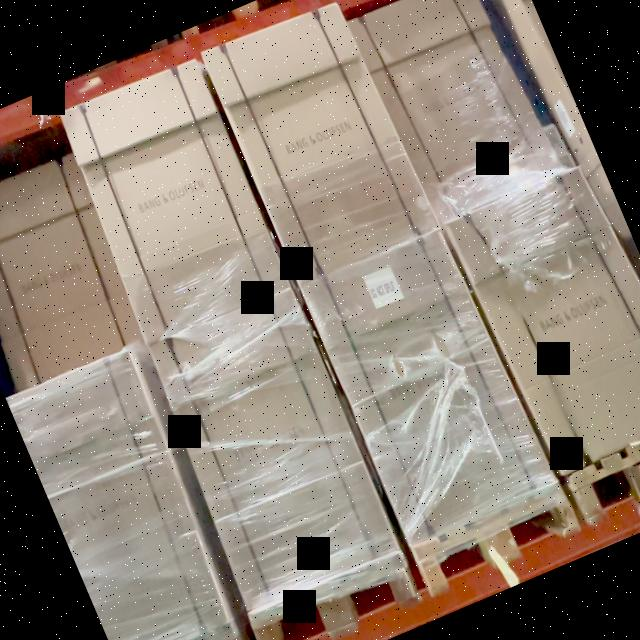box: (148, 285, 397, 611), (299, 228, 555, 544), (201, 2, 437, 285), (61, 57, 290, 344), (443, 165, 640, 476), (348, 0, 561, 226), (0, 155, 143, 390)
